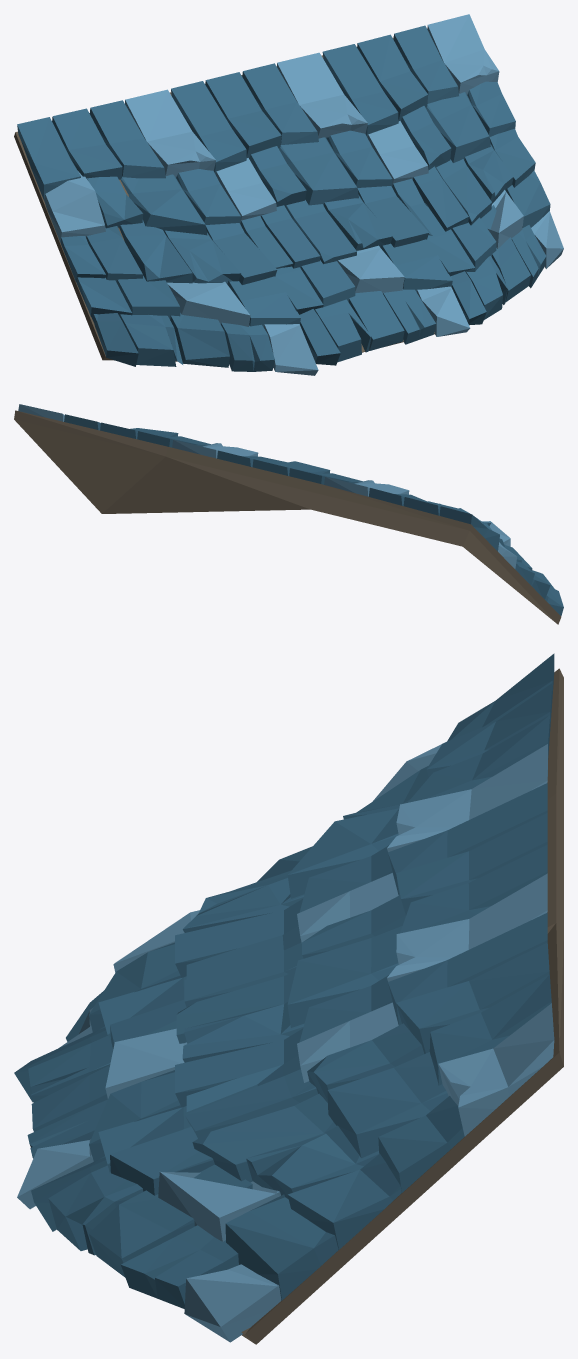
The model's file is ROOF_base_round_1.glb.
The picture shows the model from 3 angles, top to bottom: view 1: azimuth 30°, elevation 25°; view 2: azimuth 150°, elevation 25°; view 3: azimuth 270°, elevation 25°; orthographic projection. The views are drawn at different scales.
Parts seen in each view (by area): view 1: ROOF_base_round_1; view 2: ROOF_base_round_1; view 3: ROOF_base_round_1.
Part boxes in pixels (box(x1,y1,x2,y2)): ROOF_base_round_1: box(14, 14, 563, 375); ROOF_base_round_1: box(14, 404, 563, 624); ROOF_base_round_1: box(14, 653, 563, 1344).
Size of the model in its own units: 3.01 by 1.12 by 1.79.
1 material, 1 textured.
